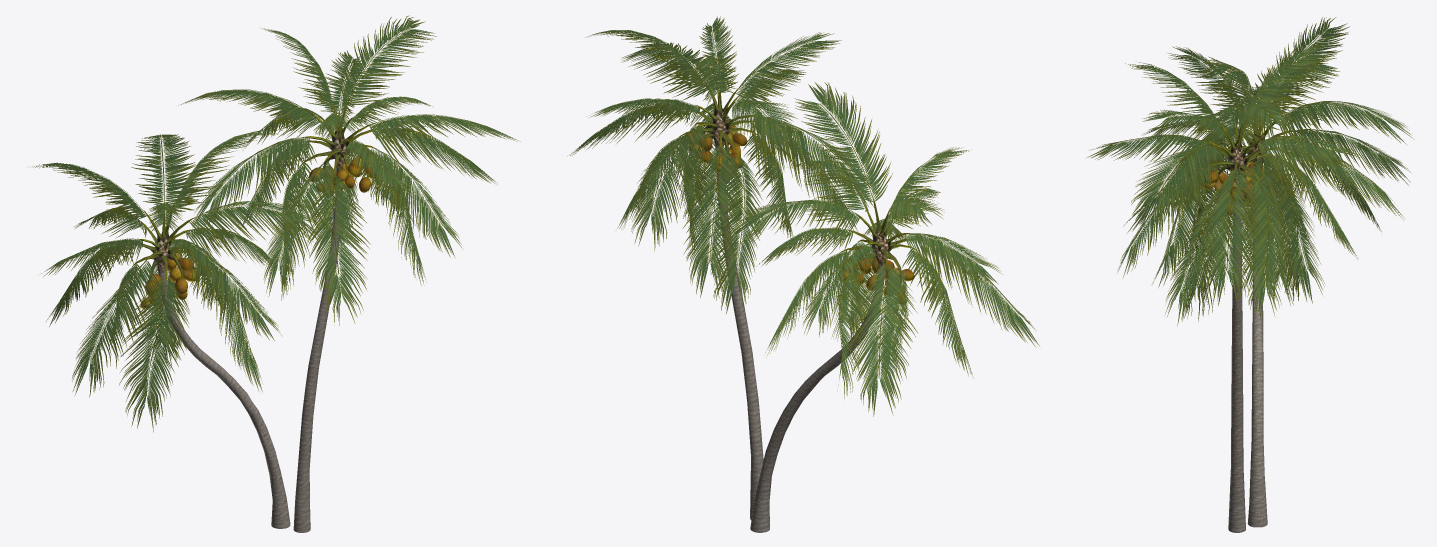
The model's file is sf_palm.glb.
The picture shows the model from 3 angles, left to right: view 1: azimuth 30°, elevation 25°; view 2: azimuth 150°, elevation 25°; view 3: azimuth 270°, elevation 25°; orthographic projection. The views are drawn at different scales.
Visible parts, largest first — view 1: Tree_2_Tree_2Mat_0, Tree_0_Tree_0Mat_0, Tree_3_Tree_3Mat_0, Tree_4_Tree_4Mat_0; view 2: Tree_2_Tree_2Mat_0, Tree_0_Tree_0Mat_0, Tree_3_Tree_3Mat_0, Tree_4_Tree_4Mat_0, Tree_1_Tree_1Mat_0; view 3: Tree_2_Tree_2Mat_0, Tree_0_Tree_0Mat_0, Tree_3_Tree_3Mat_0, Tree_4_Tree_4Mat_0.
Part boxes in pixels (bbox=[...]): Tree_2_Tree_2Mat_0: bbox=[29, 15, 520, 432]; Tree_0_Tree_0Mat_0: bbox=[158, 170, 342, 532]; Tree_3_Tree_3Mat_0: bbox=[132, 97, 379, 295]; Tree_4_Tree_4Mat_0: bbox=[140, 153, 375, 308]; Tree_2_Tree_2Mat_0: bbox=[567, 16, 1039, 416]; Tree_0_Tree_0Mat_0: bbox=[716, 152, 885, 532]; Tree_3_Tree_3Mat_0: bbox=[679, 80, 924, 291]; Tree_4_Tree_4Mat_0: bbox=[685, 126, 914, 305]; Tree_1_Tree_1Mat_0: bbox=[712, 112, 888, 270]; Tree_2_Tree_2Mat_0: bbox=[1085, 17, 1414, 326]; Tree_0_Tree_0Mat_0: bbox=[1228, 201, 1267, 532]; Tree_3_Tree_3Mat_0: bbox=[1205, 105, 1296, 202]; Tree_4_Tree_4Mat_0: bbox=[1202, 162, 1283, 217].
Bounding box in the file's own units: 6.3 × 6.28 × 4.02.
5 materials, 5 textured.
